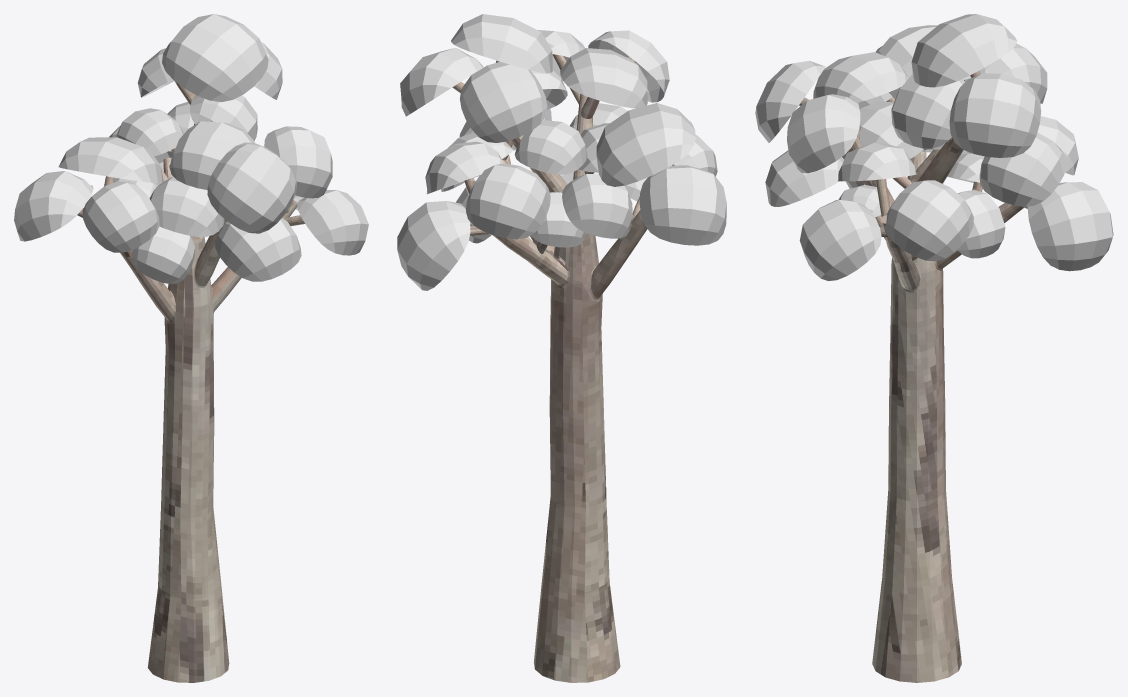
File: GumTree .fbx
3 views of the same model, side by side, from view 1: azimuth 30°, elevation 25°; view 2: azimuth 150°, elevation 25°; view 3: azimuth 270°, elevation 25° (orthographic). The views are drawn at different scales.
Visible parts, largest first — view 1: TreeTrunk, Cylinder.012, Cylinder.017, Cylinder.005, Cylinder.018, Cylinder.001, Cylinder.002, Cylinder.025, Cylinder.026, Cylinder.016, Cylinder.019, Cylinder.004 (+5 smaller); view 2: TreeTrunk, Cylinder.002, Cylinder.001, Cylinder.015, Cylinder.010, Cylinder.006, Cylinder.012, Cylinder.026, Cylinder.003, Cylinder.011, Cylinder.014, Cylinder.007 (+9 smaller); view 3: TreeTrunk, Cylinder.011, Cylinder.006, Cylinder.021, Cylinder.012, Cylinder.025, Cylinder.016, Cylinder.007, Cylinder.013, Cylinder.026, Cylinder.017, Cylinder.018 (+9 smaller).
Part boxes in pixels (x1,y1,x2,y2): TreeTrunk: (77, 81, 304, 682); Cylinder.012: (162, 14, 268, 101); Cylinder.017: (207, 144, 296, 233); Cylinder.005: (82, 181, 159, 252); Cylinder.018: (214, 218, 301, 281); Cylinder.001: (14, 171, 93, 241); Cylinder.002: (58, 137, 163, 183); Cylinder.025: (297, 190, 368, 255); Cylinder.026: (169, 121, 254, 189); Cylinder.016: (264, 126, 332, 198); Cylinder.019: (149, 176, 224, 236); Cylinder.004: (131, 226, 195, 284); TreeTrunk: (452, 54, 674, 682); Cylinder.002: (596, 103, 695, 186); Cylinder.001: (639, 165, 726, 245); Cylinder.015: (460, 61, 547, 142); Cylinder.010: (466, 163, 550, 239); Cylinder.006: (397, 201, 470, 290); Cylinder.012: (451, 14, 552, 73); Cylinder.026: (560, 48, 647, 108); Cylinder.003: (562, 173, 632, 238); Cylinder.011: (400, 48, 483, 116); Cylinder.014: (514, 120, 587, 174); Cylinder.007: (425, 141, 504, 194); TreeTrunk: (799, 71, 1027, 682); Cylinder.011: (949, 73, 1041, 157); Cylinder.006: (1027, 182, 1113, 271); Cylinder.021: (884, 180, 973, 261); Cylinder.012: (911, 14, 1016, 87); Cylinder.025: (799, 199, 881, 280); Cylinder.016: (787, 94, 860, 173); Cylinder.007: (979, 132, 1067, 206); Cylinder.013: (891, 74, 964, 148); Cylinder.026: (813, 52, 908, 102); Cylinder.017: (755, 60, 819, 142); Cylinder.018: (765, 150, 843, 206).
Bounding box in the file's own units: 985 × 1975 × 955.
